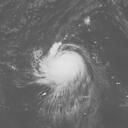cyclone: (36, 44, 90, 89)
